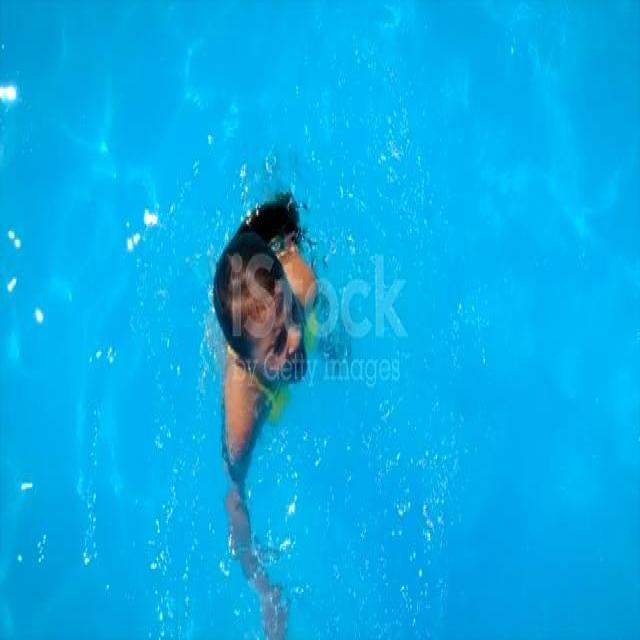Out of Water: (211, 208, 328, 601)
